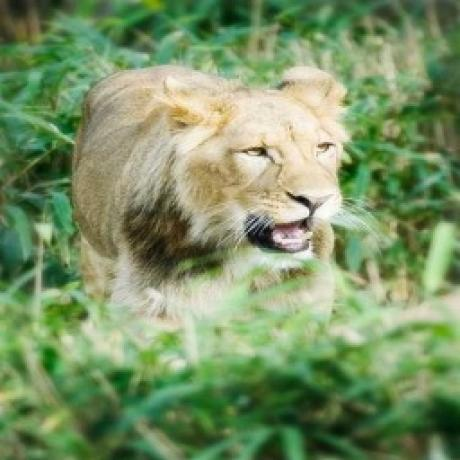Lion: (72, 65, 348, 296)
